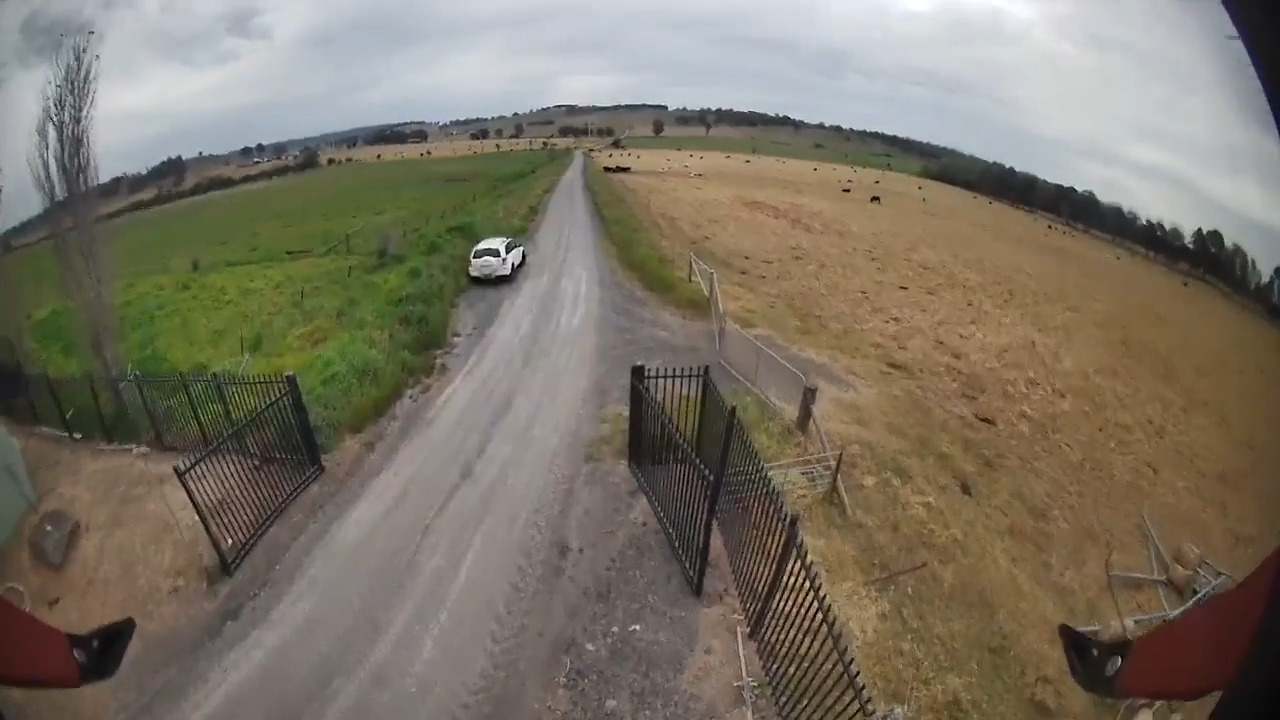Car: (467, 236, 527, 281)
